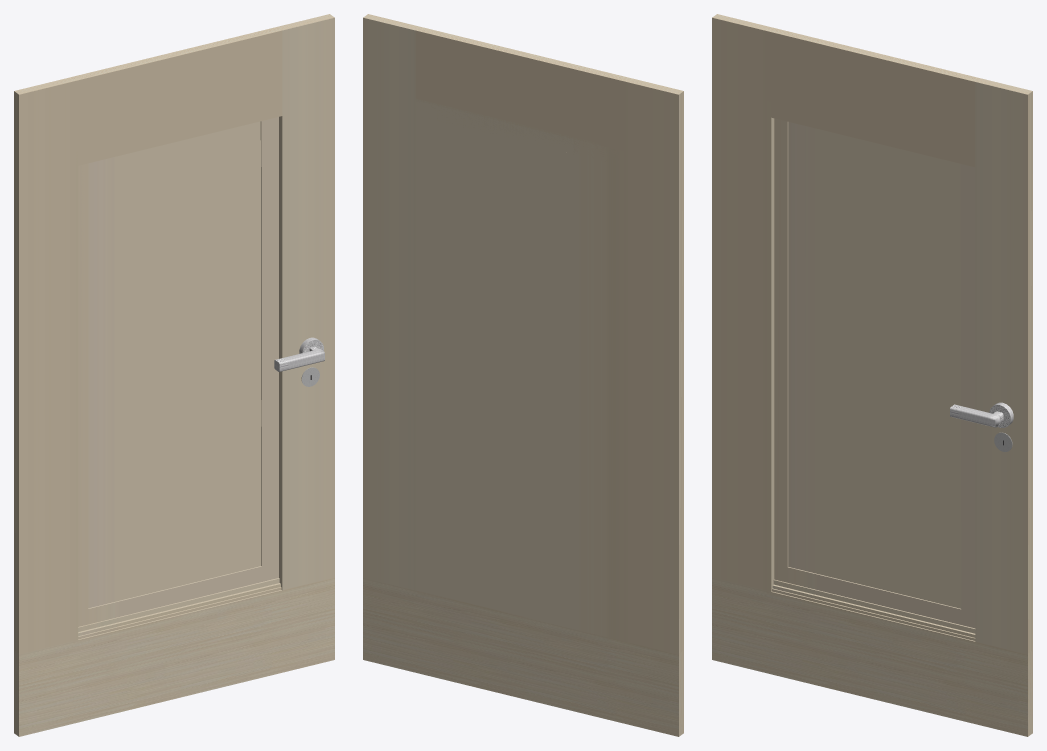
File: Locked Door.FBX
3 views of the same model, side by side, from view 1: azimuth 30°, elevation 25°; view 2: azimuth 150°, elevation 25°; view 3: azimuth 330°, elevation 25° (orthographic).
Visible parts, largest first — view 1: Box001, Box002; view 2: Box001; view 3: Box001, Box002.
Boxes of the visible parts, x1,y1,x2,y2 form: Box001: [14, 14, 334, 736]; Box002: [274, 346, 324, 371]; Box001: [363, 14, 683, 736]; Box001: [712, 14, 1032, 736]; Box002: [950, 404, 1003, 427].
Size of the model in its own units: 34.73 by 67.51 by 3.12.
4 materials, 4 textured.
